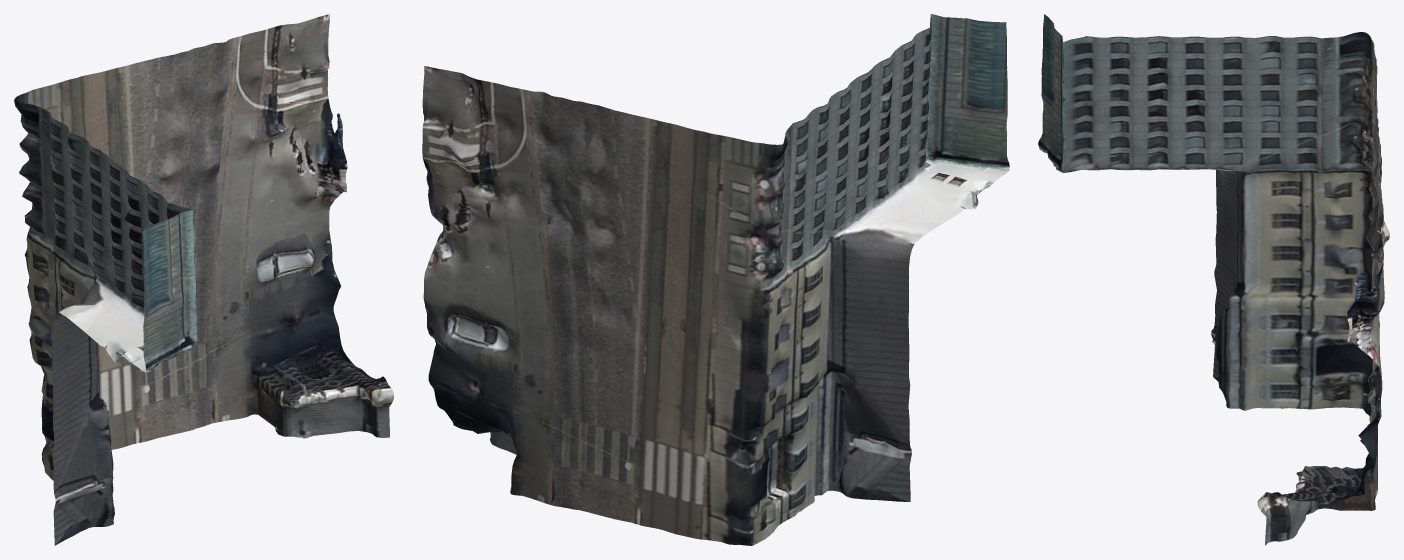
File: Tile_+029_+018_L21_0021100.fbx
The picture shows the model from 3 angles, left to right: view 1: azimuth 30°, elevation 25°; view 2: azimuth 150°, elevation 25°; view 3: azimuth 270°, elevation 25°; orthographic projection. The views are drawn at different scales.
Visible parts, largest first — view 1: DefaultName; view 2: DefaultName; view 3: DefaultName.
Boxes of the visible parts, x1,y1,x2,y2 form: DefaultName: (14, 14, 393, 545); DefaultName: (422, 14, 1009, 545); DefaultName: (1038, 14, 1389, 545).
Size of the model in its own units: 31.38 by 31.38 by 27.59.
Materials: 1 (1 with a texture image).
